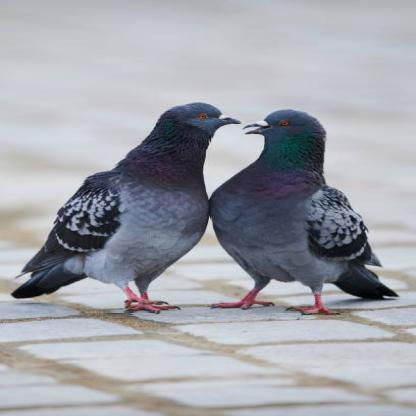Flying Rat: (22, 87, 242, 338), (213, 100, 392, 320)
